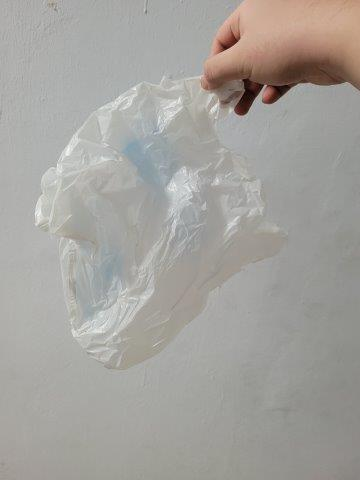plastik: (33, 76, 282, 371)
